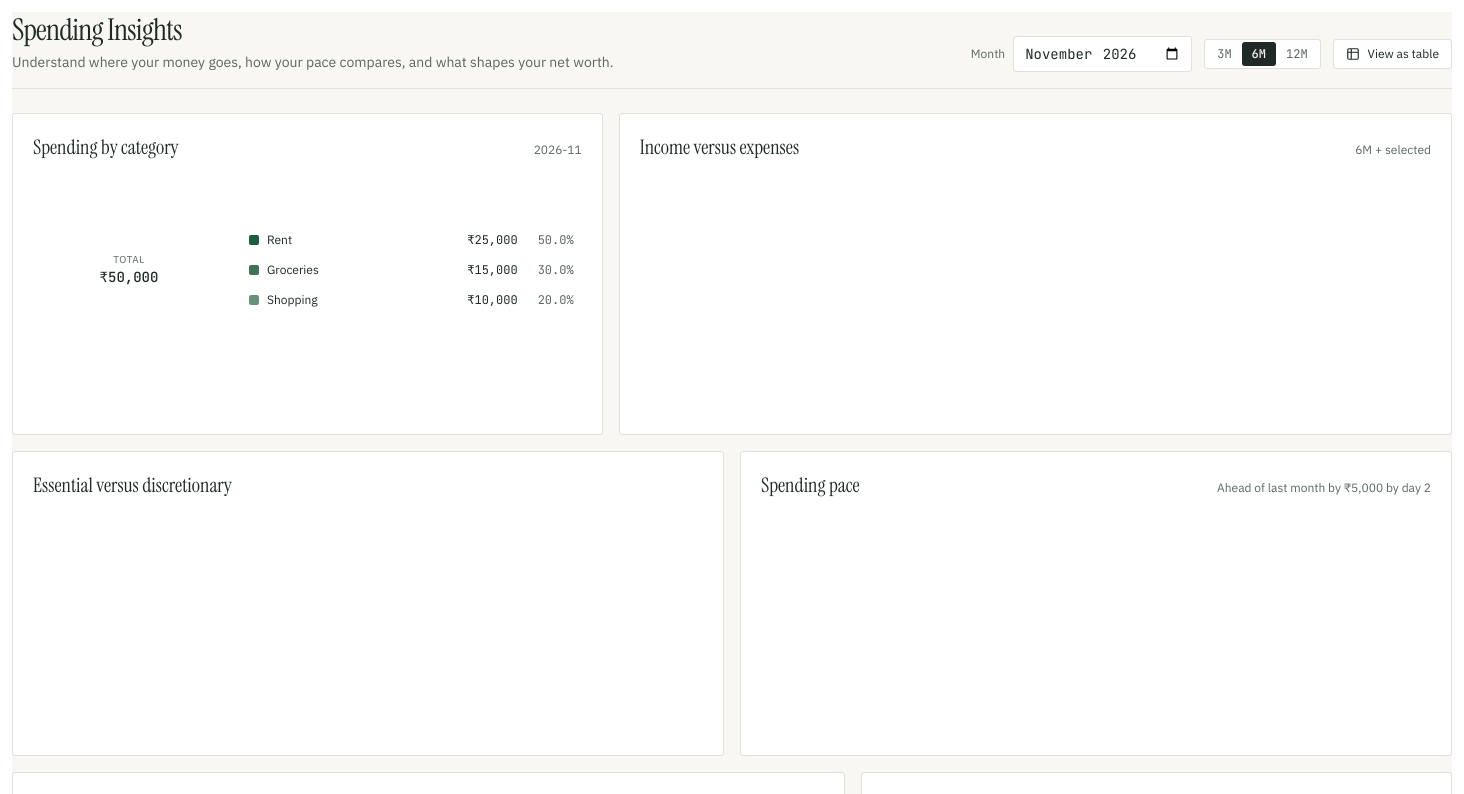
Test: Insights Page › renders key figures and swaps charts for accessible tables when View as table is toggled
This screenshot has width=1464, height=794.
Expected: the heading "Spending by category" is shown, 33,134 -> 179,162
Expected: the text "Ahead of last month by ₹5,000 by day 2" is shown, 1217,480 -> 1431,496
# Toggle "View as table"
Click the switch labelled "View as table".
click(1392, 54)  # box 1333,39 -> 1452,69
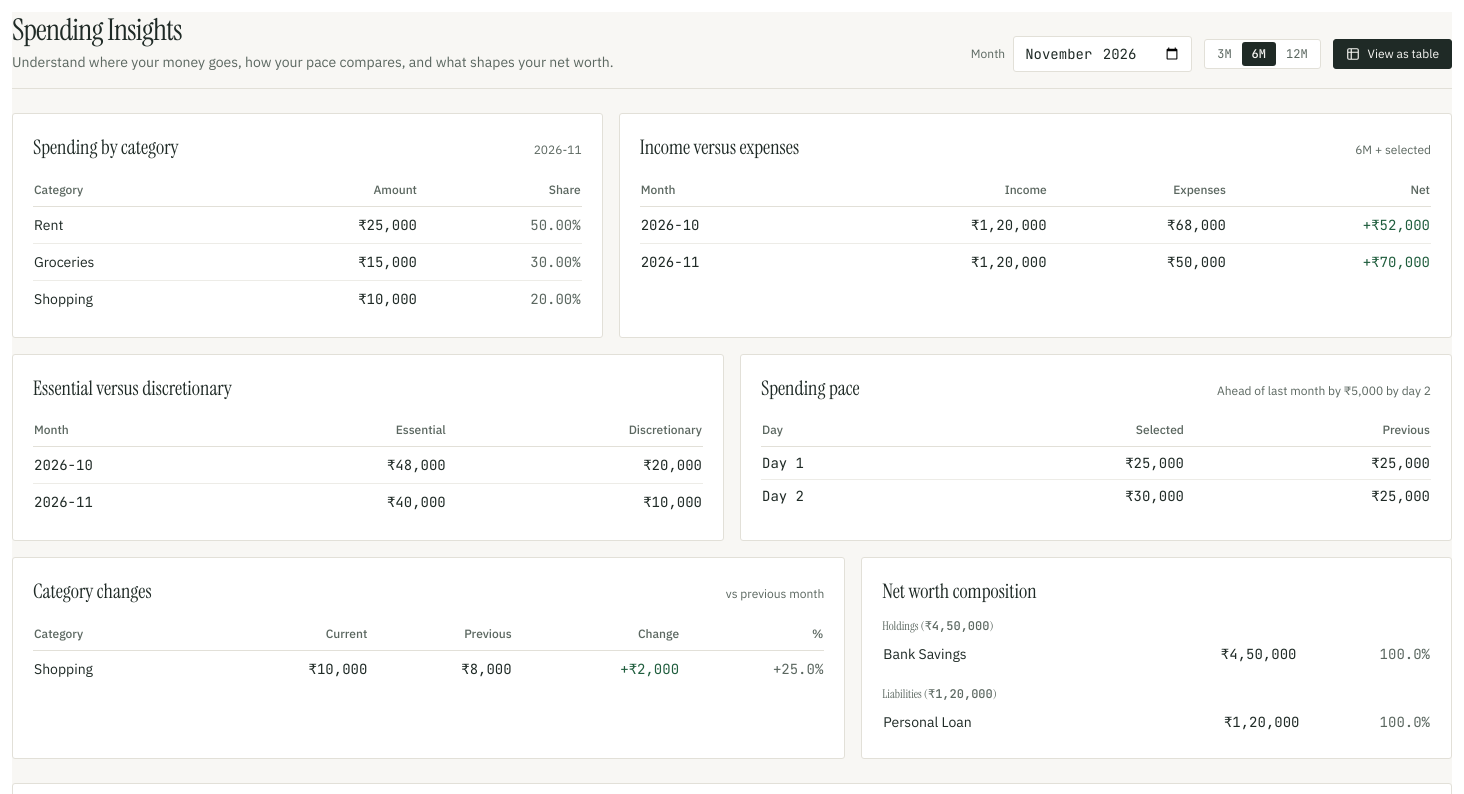
Now the text "₹68,000" is shown, box 1167,216 -> 1226,234
Now the text "+25.0%" is shown, box 680,650 -> 824,686
